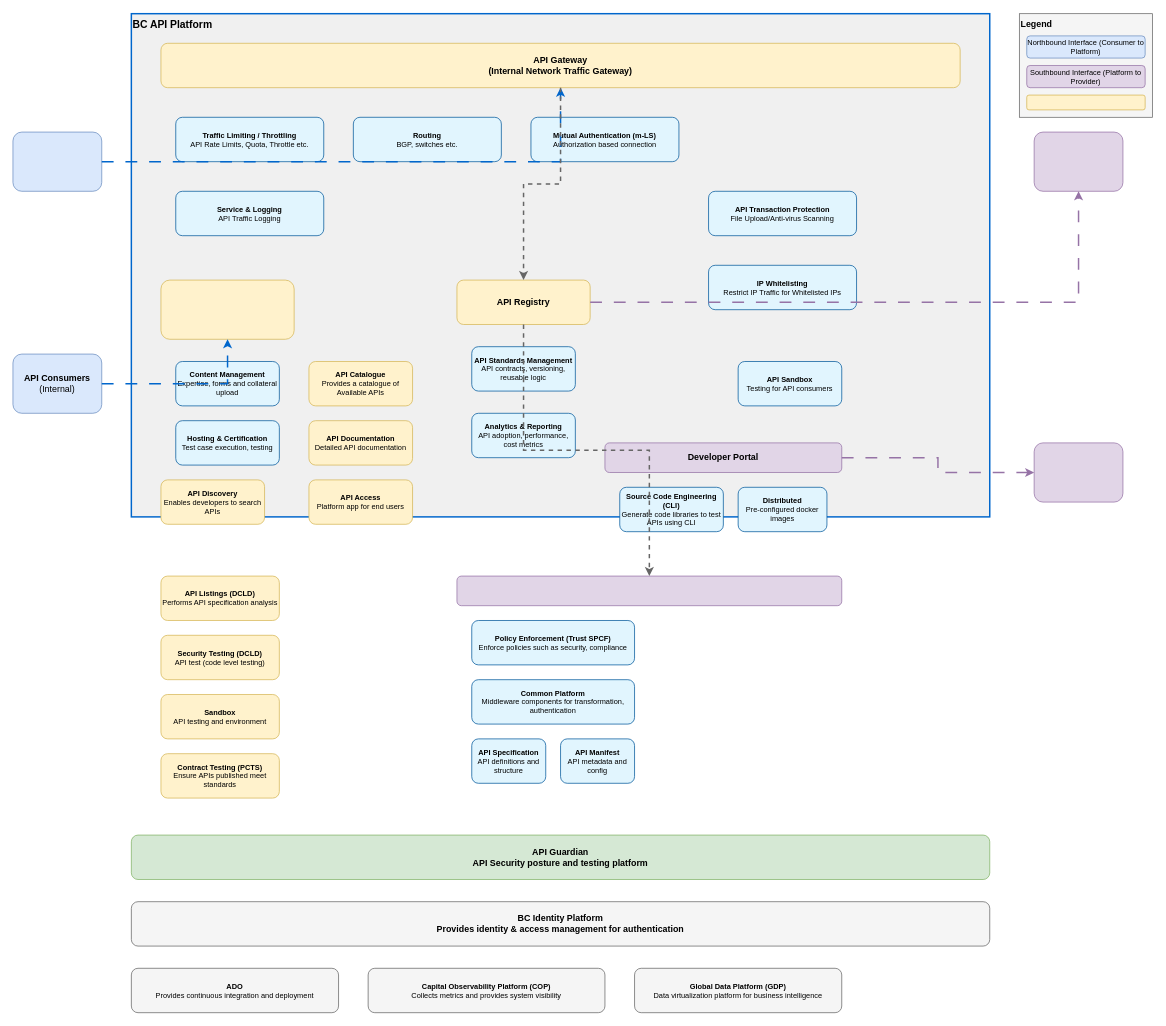
The diagram is 1166 pixels wide and 1026 high, and some of its shapes have lost their labels. Each missing label, with the centre of its shape:
"API Consumers (External)" goes at point (57, 161).
"API Initiator (Streams)" goes at point (649, 590).
"API Providers (External)" goes at point (1078, 161).
"API Providers (Internal)" goes at point (1078, 472).
"Developer Portal Expand Ideas (Clients, Regulators, Partners)" goes at point (227, 309).
"Internal Components" goes at point (1085, 102).
